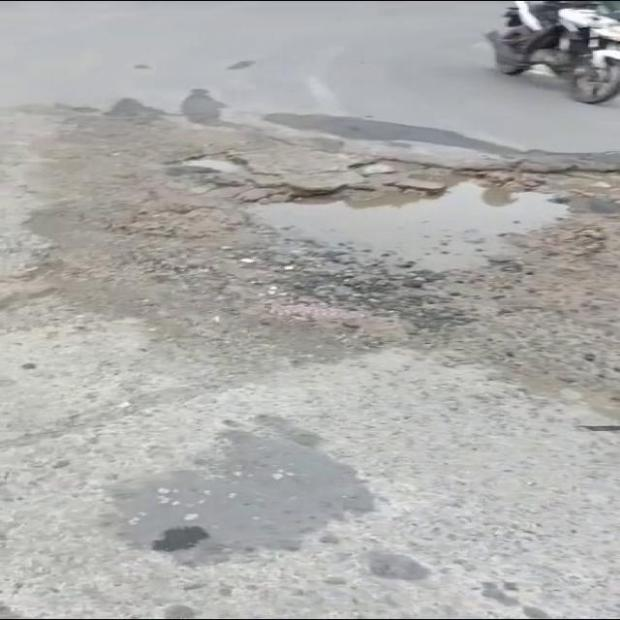lubang: (173, 152, 569, 285)
